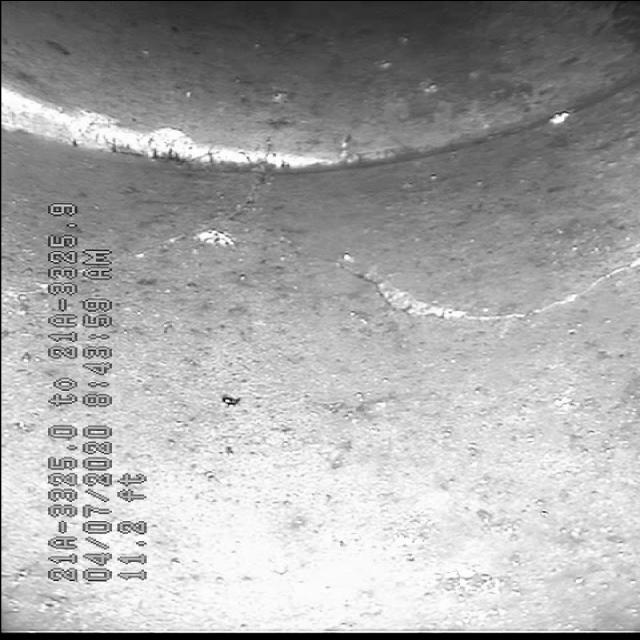Crack: (326, 223, 586, 367)
